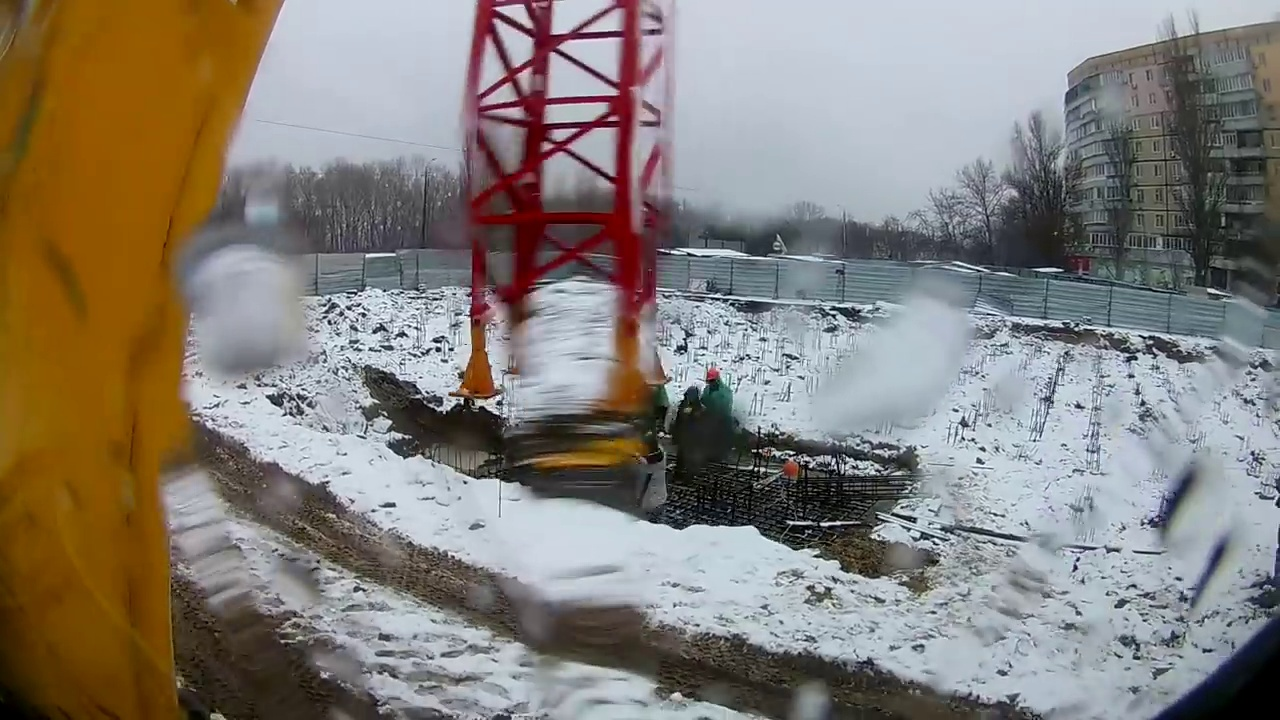helmet: (705, 368, 719, 381)
helmet-on: (701, 368, 726, 397), (781, 461, 800, 478)
person: (693, 369, 736, 467)
